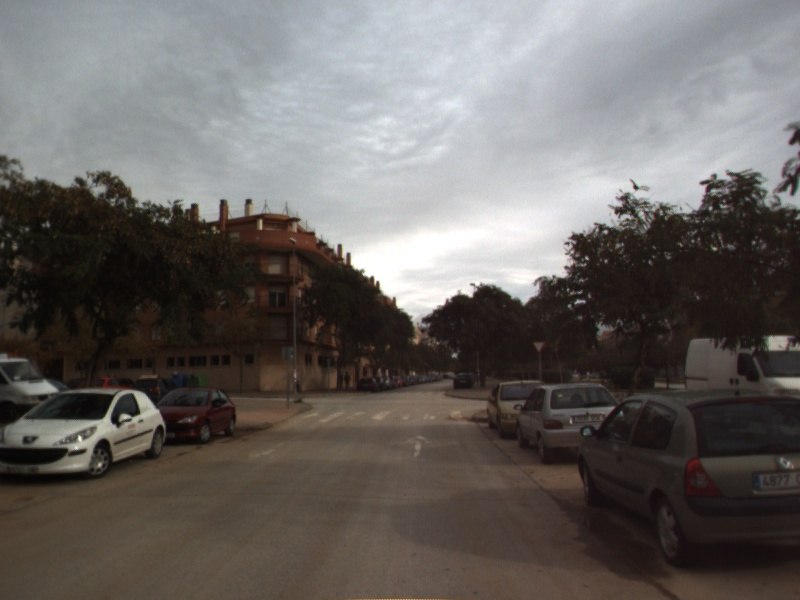STRAIGHT: (401, 433, 434, 459)
